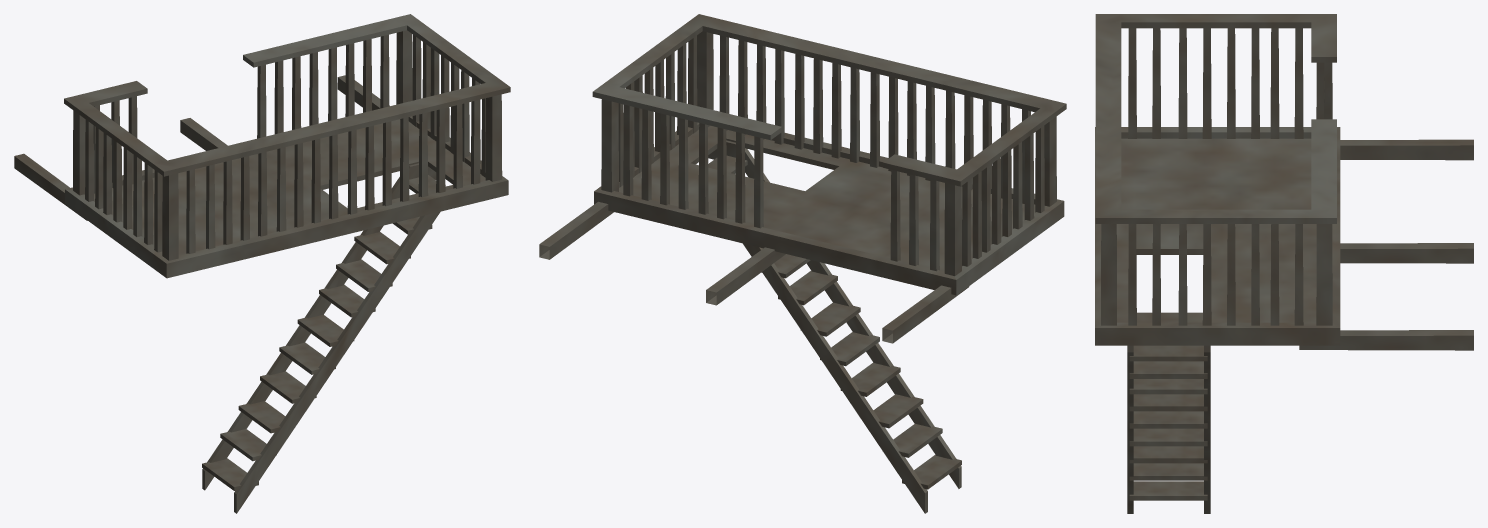
Rendered from Fire_Escape_Stair_Top.fbx.
The picture shows the model from 3 angles, left to right: view 1: azimuth 30°, elevation 25°; view 2: azimuth 150°, elevation 25°; view 3: azimuth 270°, elevation 25°; orthographic projection. The views are drawn at different scales.
Parts seen in each view (by area): view 1: Fire_Escape_Ladders_Top; view 2: Fire_Escape_Ladders_Top; view 3: Fire_Escape_Ladders_Top.
Boxes of the visible parts, x1=… form: Fire_Escape_Ladders_Top: x1=14, y1=14, x2=510, y2=513; Fire_Escape_Ladders_Top: x1=539, y1=14, x2=1066, y2=513; Fire_Escape_Ladders_Top: x1=1095, y1=14, x2=1473, y2=513.
Bounding box in the file's own units: 414 × 425 × 325.
